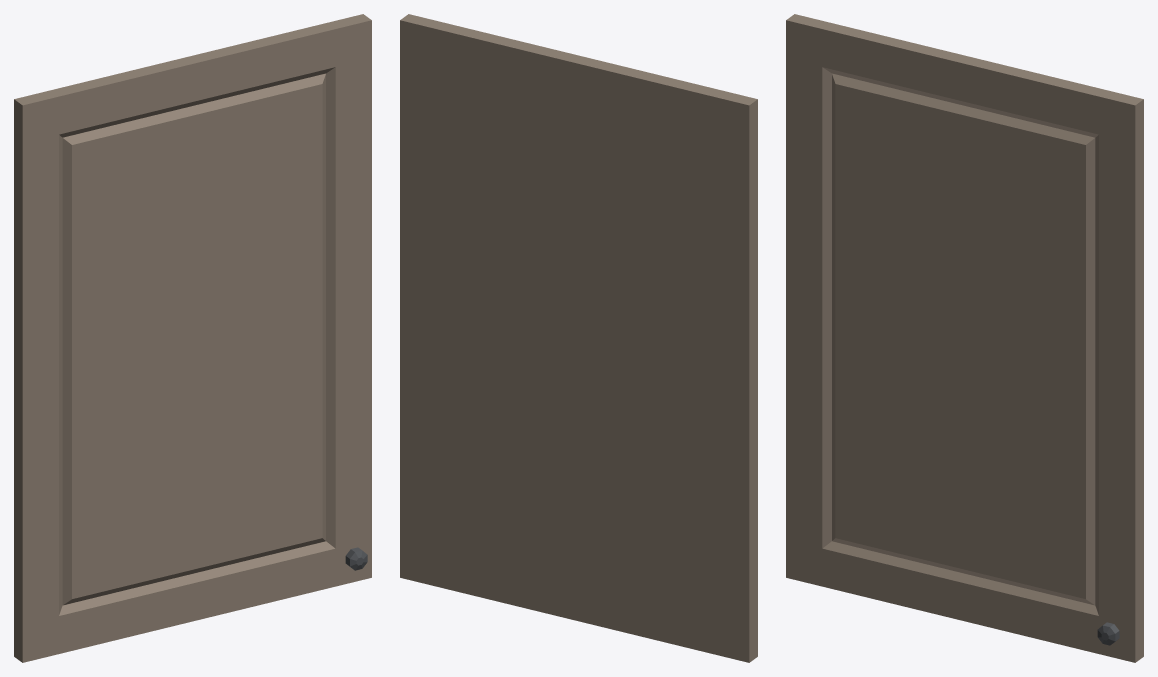
File: Door3_C5_12.fbx
3 views of the same model, side by side, from view 1: azimuth 30°, elevation 25°; view 2: azimuth 150°, elevation 25°; view 3: azimuth 330°, elevation 25° (orthographic).
Parts seen in each view (by area): view 1: Door3_C5_12; view 2: Door3_C5_12; view 3: Door3_C5_12.
Part boxes in pixels (x1,y1,x2,y2): Door3_C5_12: (14,14,371,662); Door3_C5_12: (400,14,757,662); Door3_C5_12: (786,14,1143,662).
Bounding box in the file's own units: 59 × 90 × 5.19.
